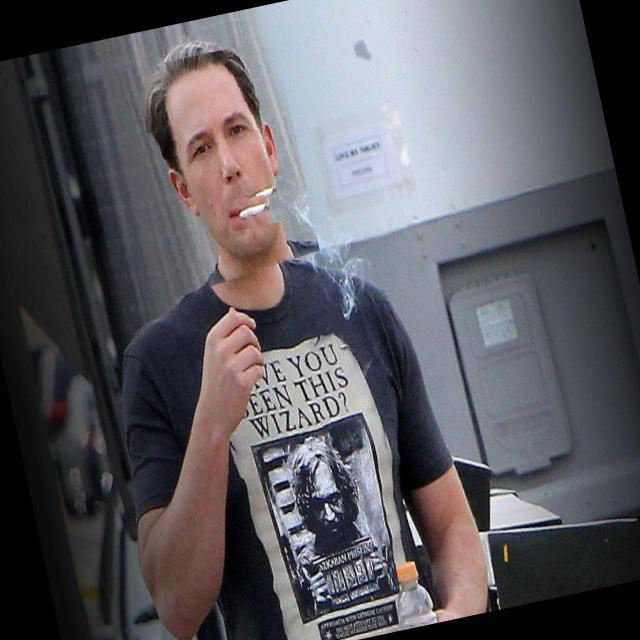cigarette: (226, 190, 284, 232)
